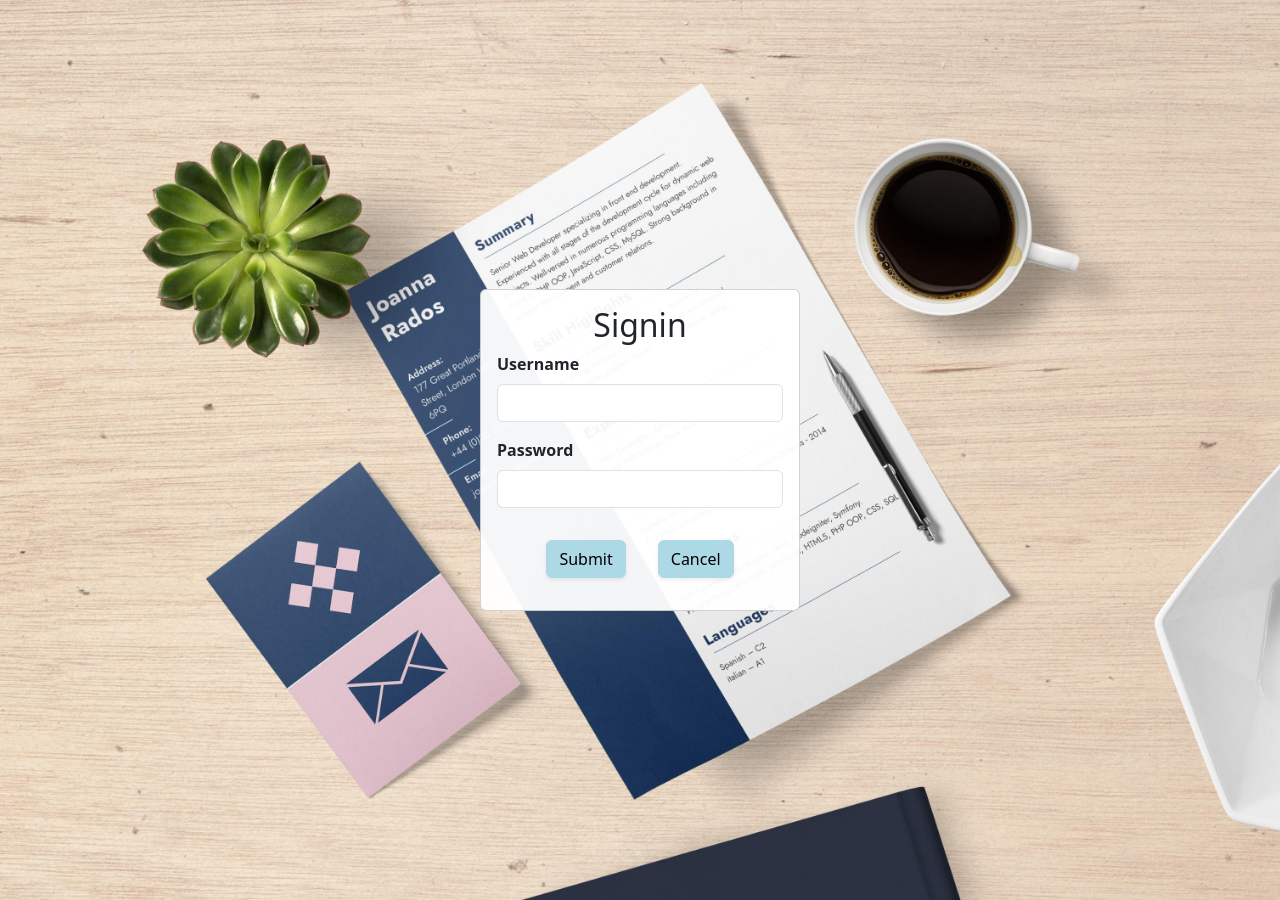
Test: Signin › can update form data.
Click the field labelled "Username" at (640, 403), box 497,384 -> 783,422
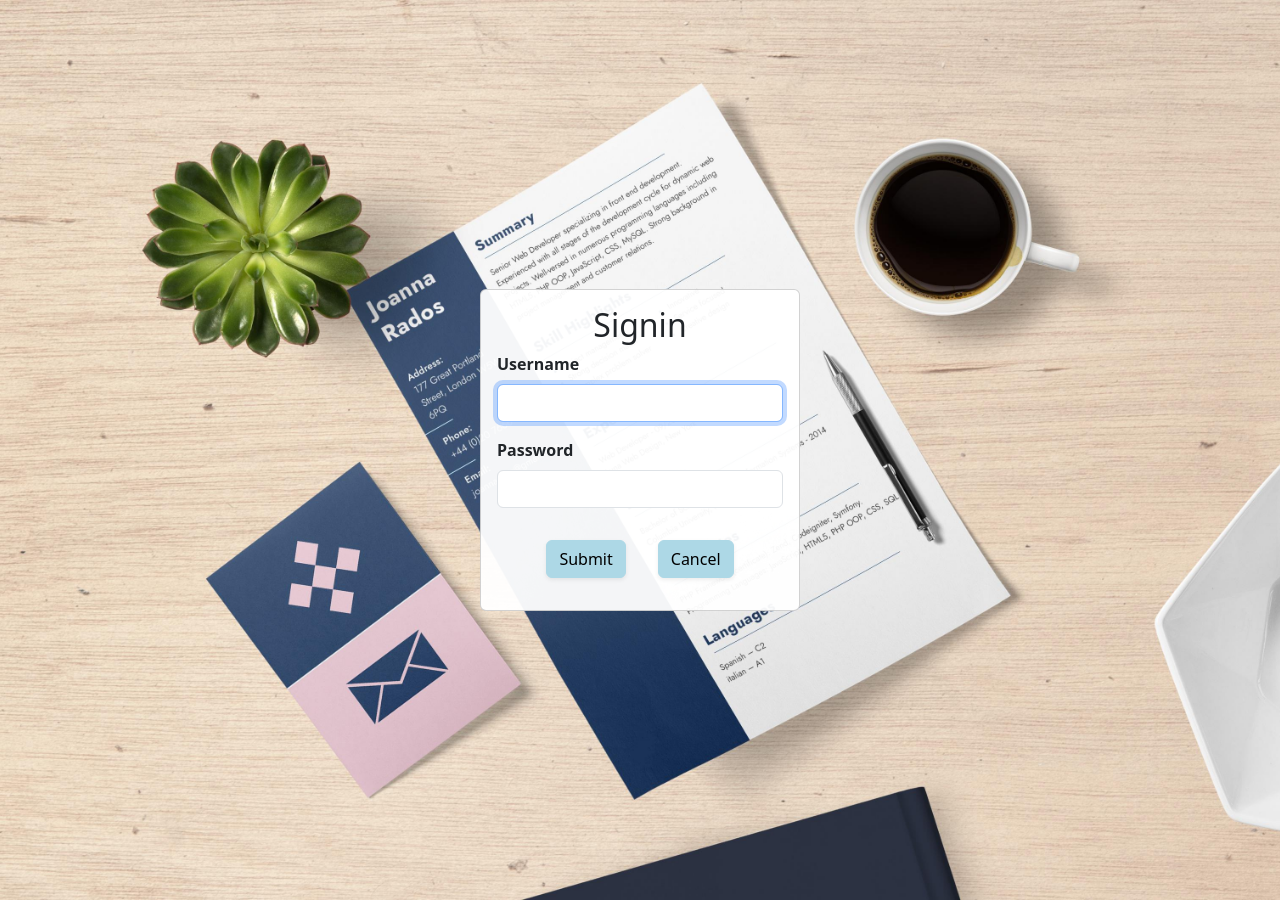
Type keys "user1"
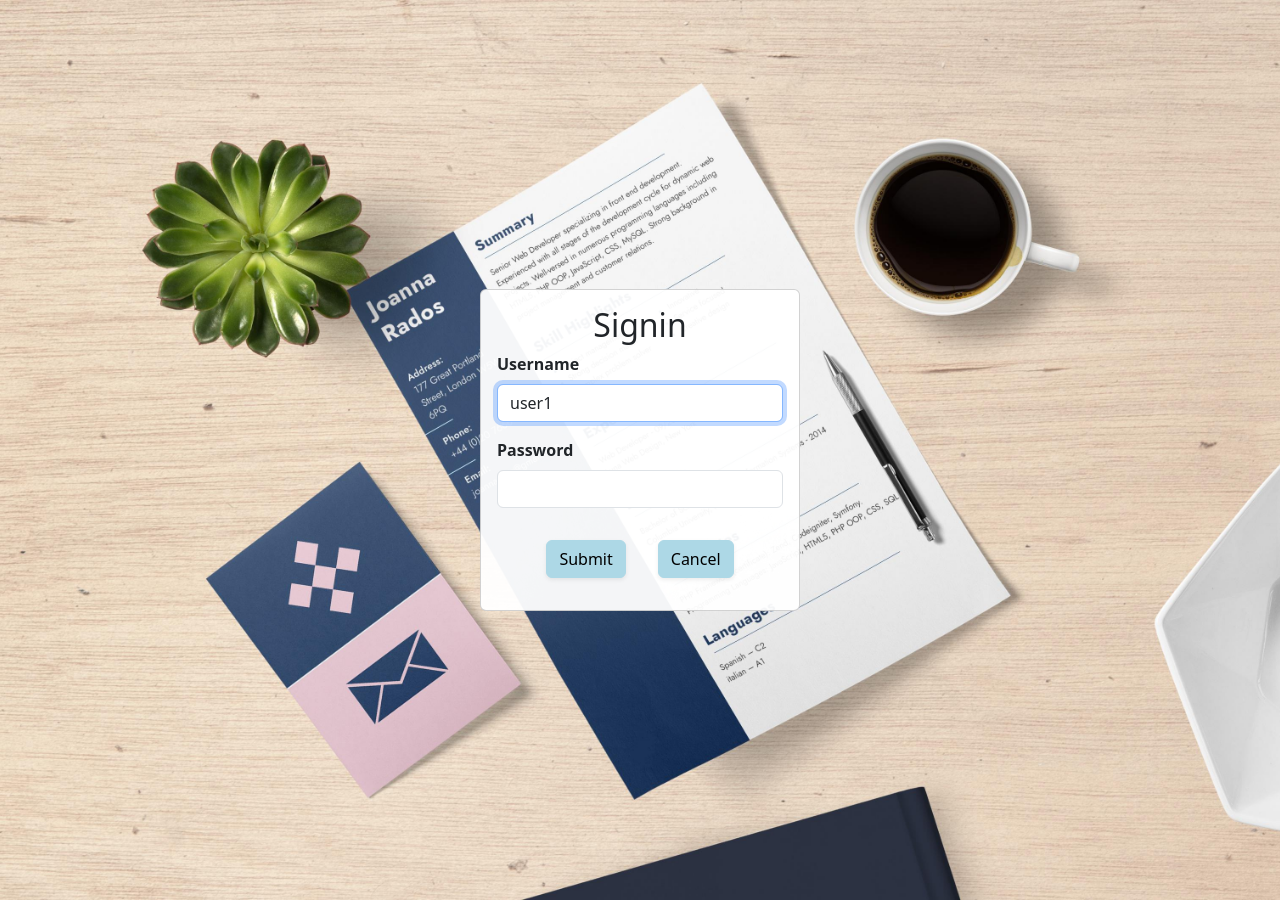
Click the password field labelled "Password" at (640, 489), box 497,470 -> 783,508
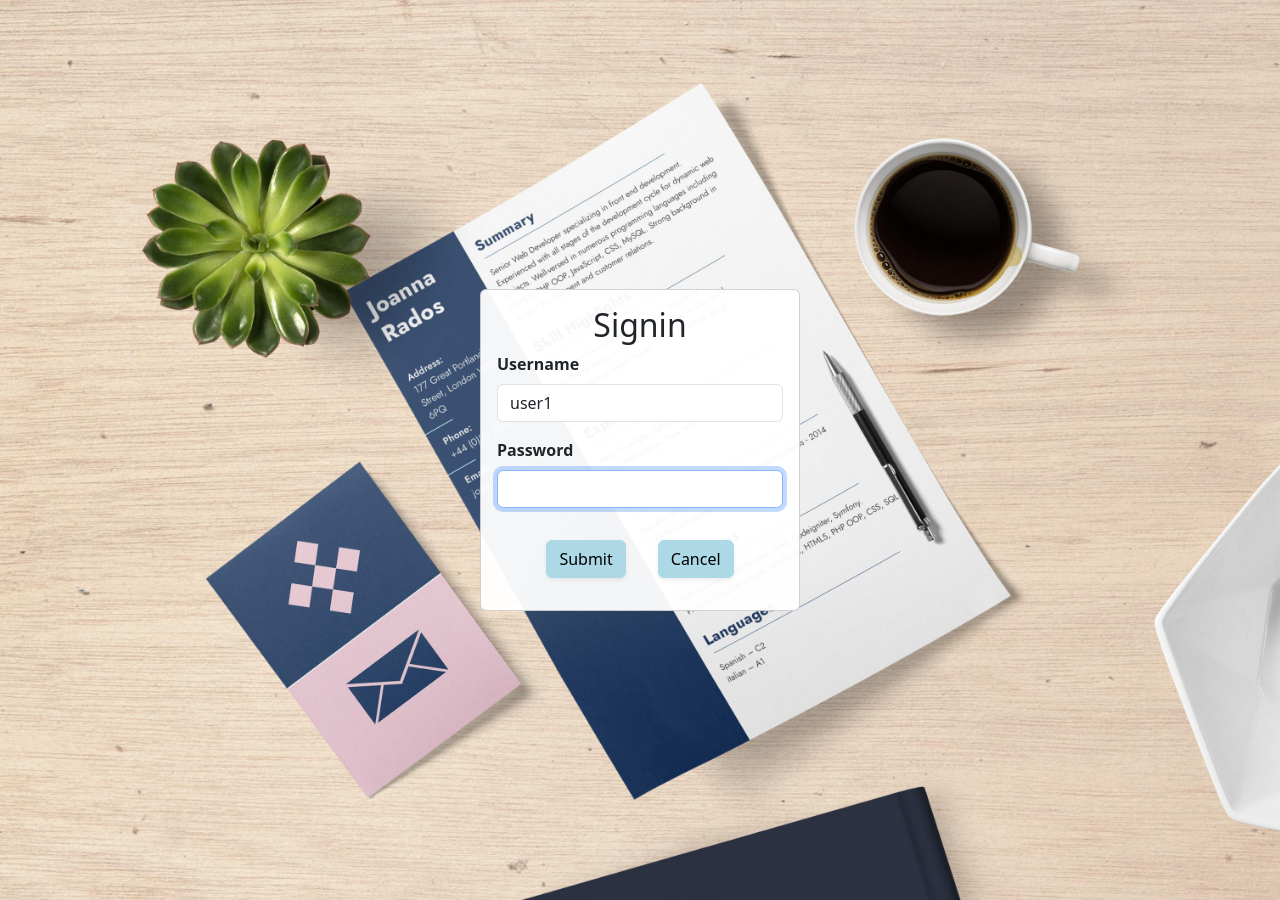
Type keys "12345"
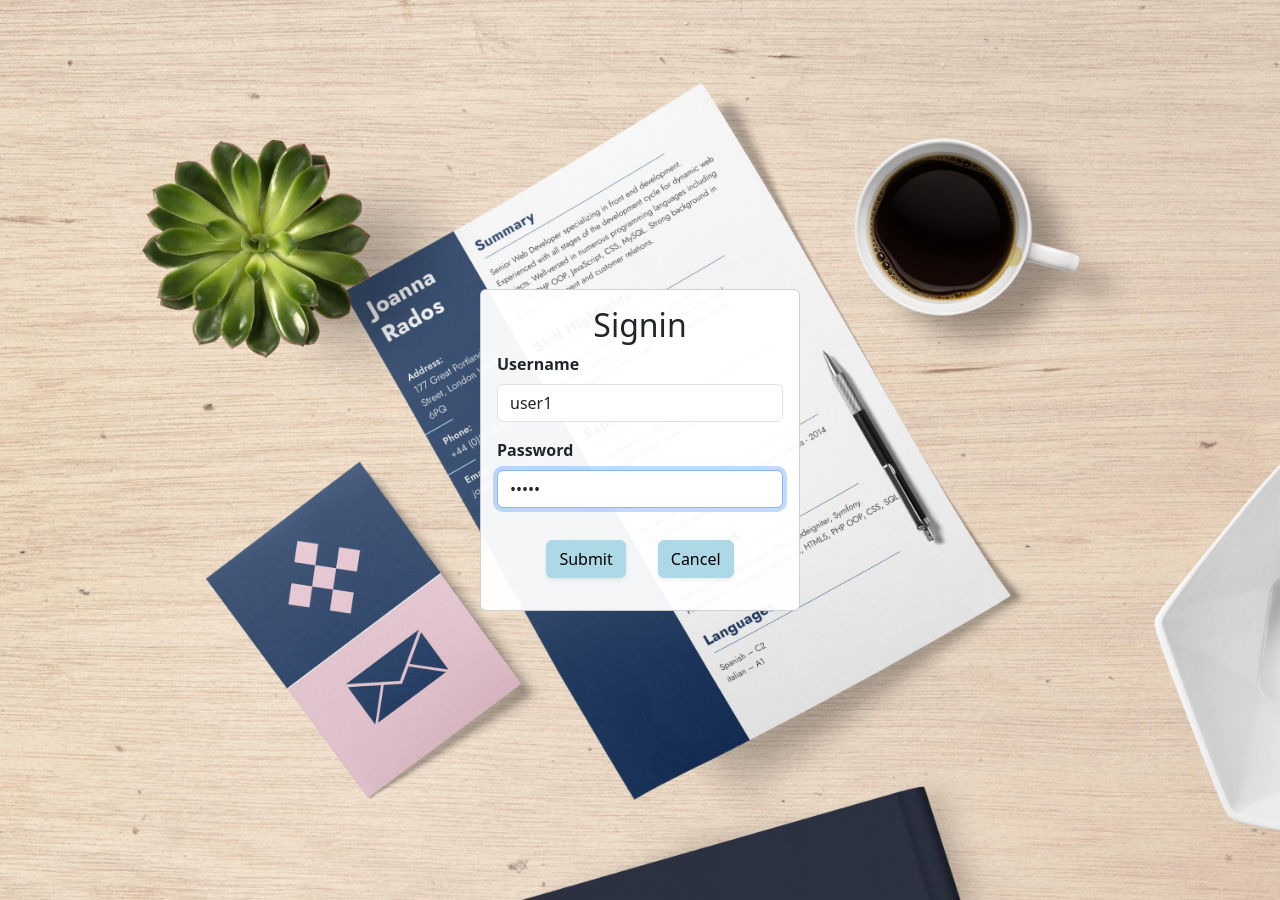
Expected: the field labelled "Username" holds "user1", 497,384 -> 783,422
Expected: the password field labelled "Password" holds "12345", 497,470 -> 783,508
